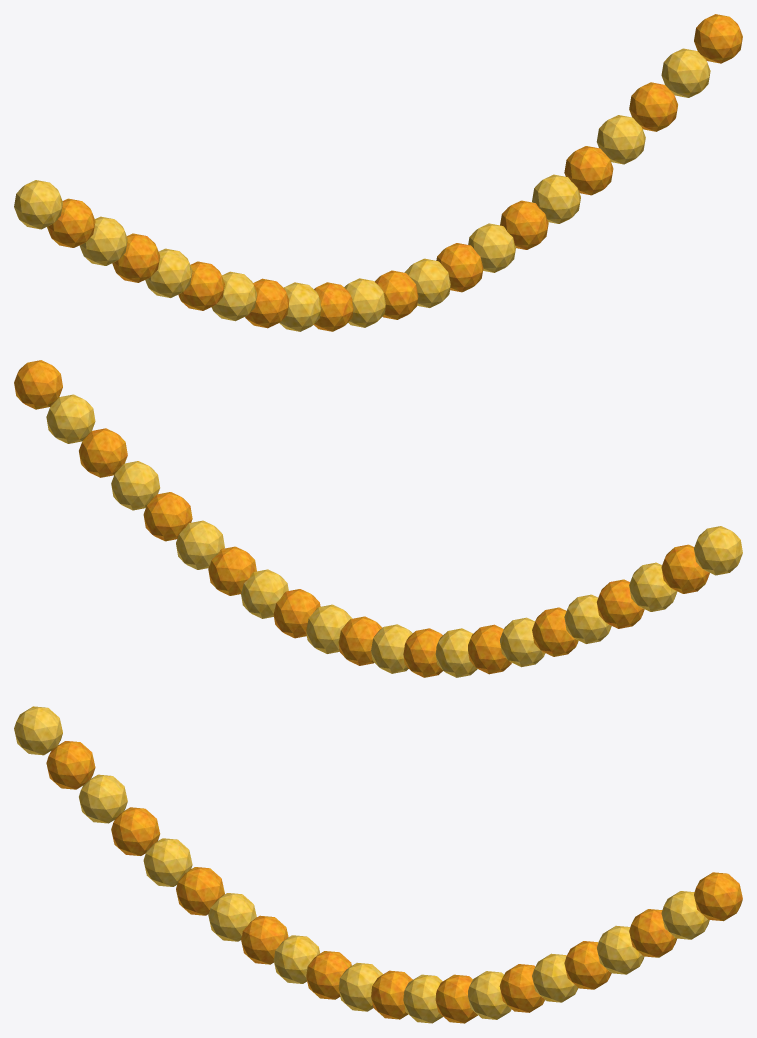
File: garland.glb
The picture shows the model from 3 angles, top to bottom: view 1: azimuth 30°, elevation 25°; view 2: azimuth 150°, elevation 25°; view 3: azimuth 330°, elevation 25°; orthographic projection.
Visible parts, largest first — view 1: garland; view 2: garland; view 3: garland.
Boxes of the visible parts, x1=… form: garland: x1=14, y1=14, x2=742, y2=331; garland: x1=14, y1=360, x2=742, y2=677; garland: x1=14, y1=706, x2=742, y2=1023.
Bounding box in the file's own units: 1.06 × 0.3133 × 0.064.
1 material, 1 textured.
